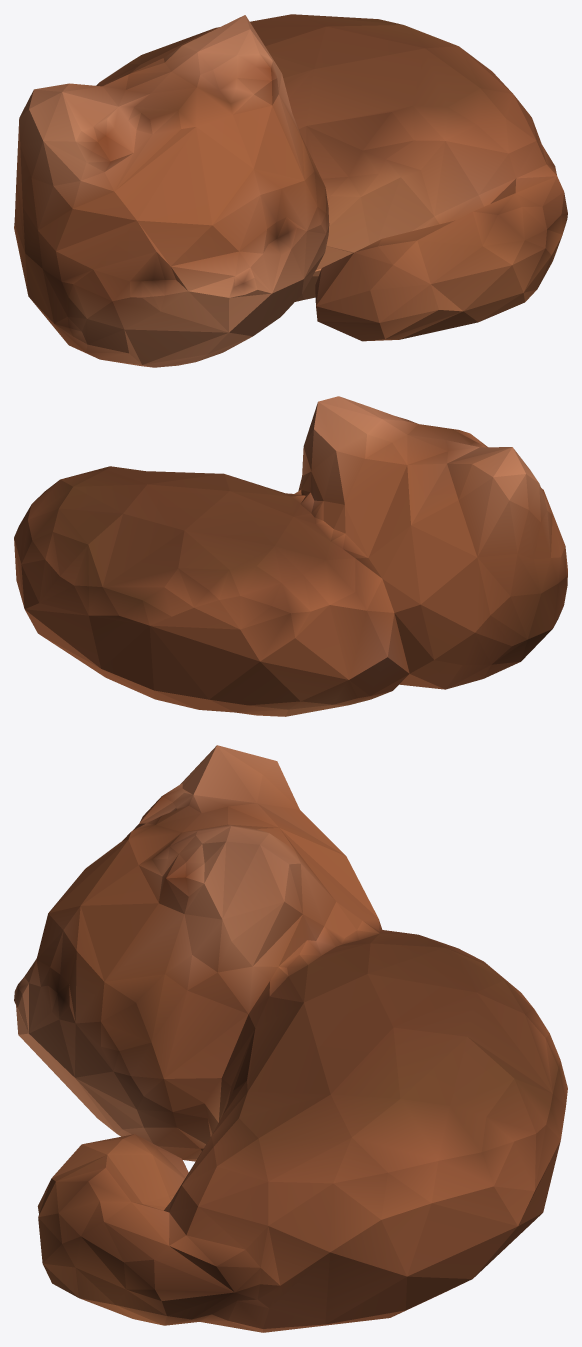
The picture shows the model from 3 angles, top to bottom: view 1: azimuth 30°, elevation 25°; view 2: azimuth 150°, elevation 25°; view 3: azimuth 270°, elevation 25°; orthographic projection. The views are drawn at different scales.
Visible parts, largest first — view 1: Sphere; view 2: Sphere; view 3: Sphere.
Boxes of the visible parts, x1=… form: Sphere: x1=14, y1=14, x2=567, y2=367; Sphere: x1=14, y1=396, x2=567, y2=716; Sphere: x1=14, y1=745, x2=567, y2=1332.
Size of the model in its own units: 3.6 by 1.97 by 2.7.
